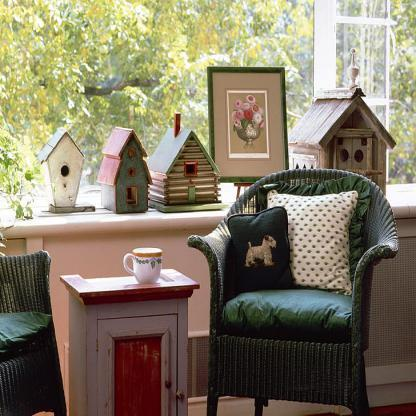chair: (182, 142, 401, 416), (0, 252, 67, 416)
table: (62, 269, 201, 416)
